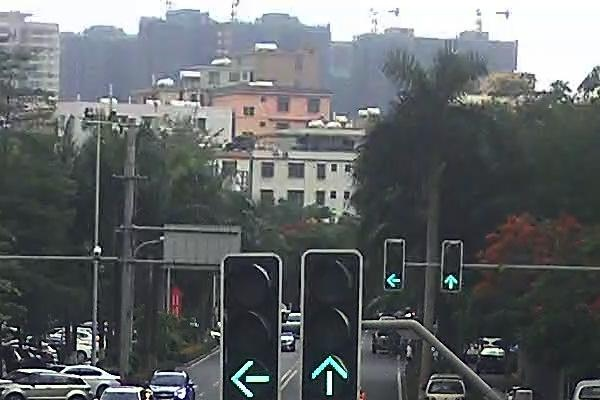greenleft: (225, 359, 275, 400), (385, 272, 402, 289)
greenstraight: (305, 351, 354, 399), (442, 273, 460, 290)
